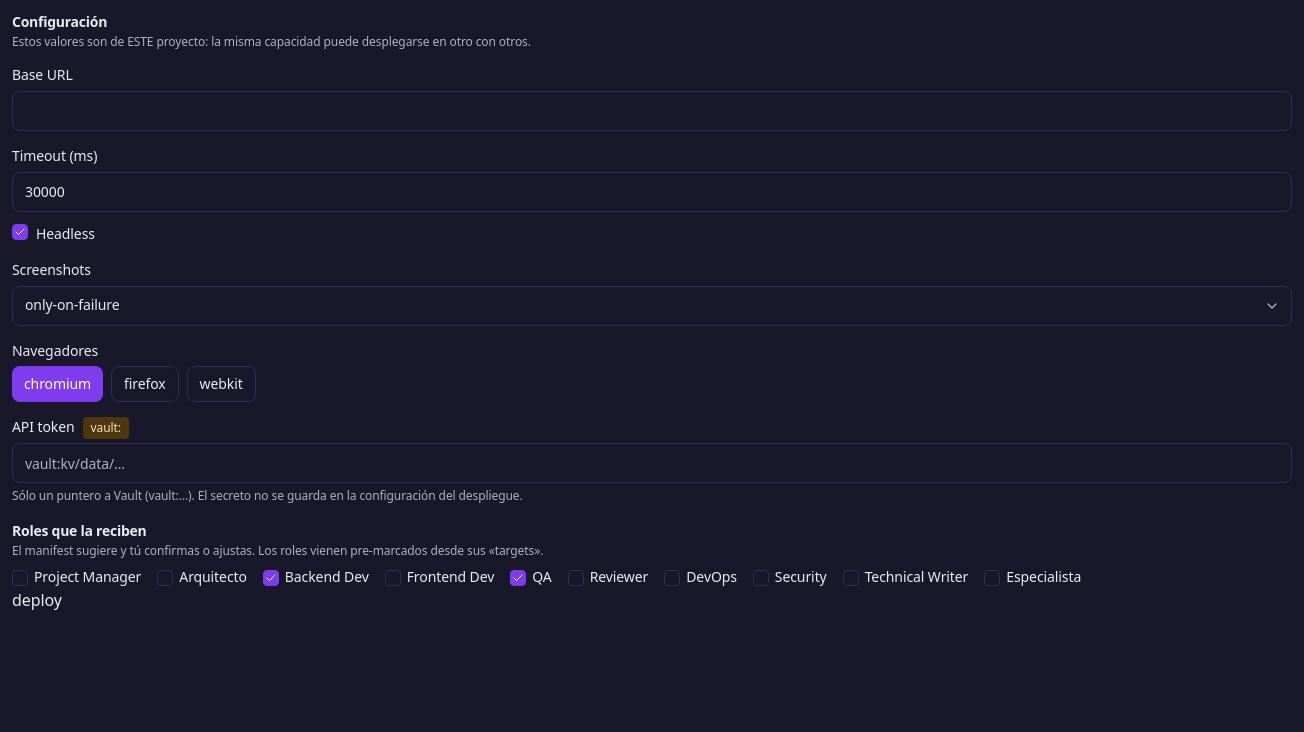
it: DeploymentConfigForm › pre-marca los roles de `targets` y deja desmarcarlos
The width and height of the screenshot is (1304, 732).
Expected: the checkbox with test id "dep-role-backend_dev" is checked, [263,567,369,588]
Expected: the checkbox with test id "dep-role-reviewer" is not checked, [568,567,648,588]
Click the checkbox with test id "dep-role-qa" at point(531, 578), box [510,567,552,588]
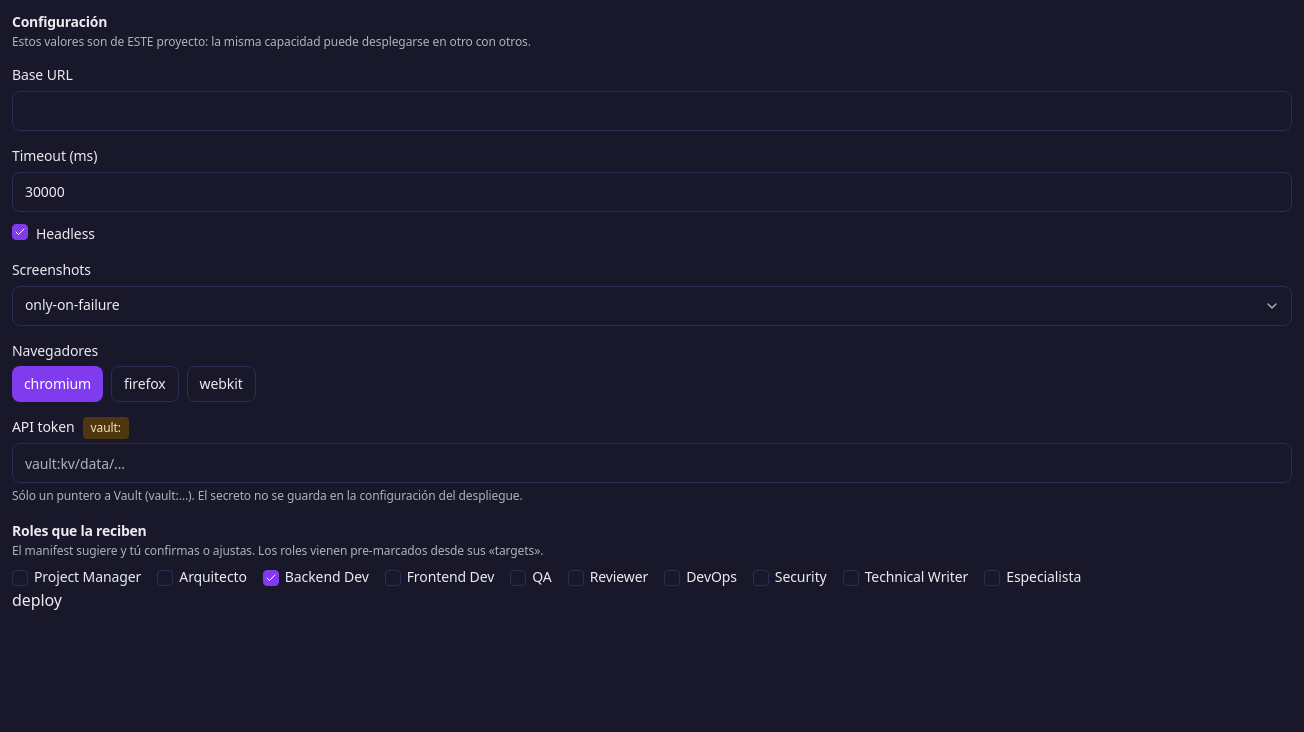
Result: the checkbox with test id "dep-role-qa" is not checked at [510,567,552,588]
# Quedarse sin roles no es un error de validación, pero sí un aviso visible.
Click the checkbox with test id "dep-role-backend_dev" at point(316, 578), box [263,567,369,588]
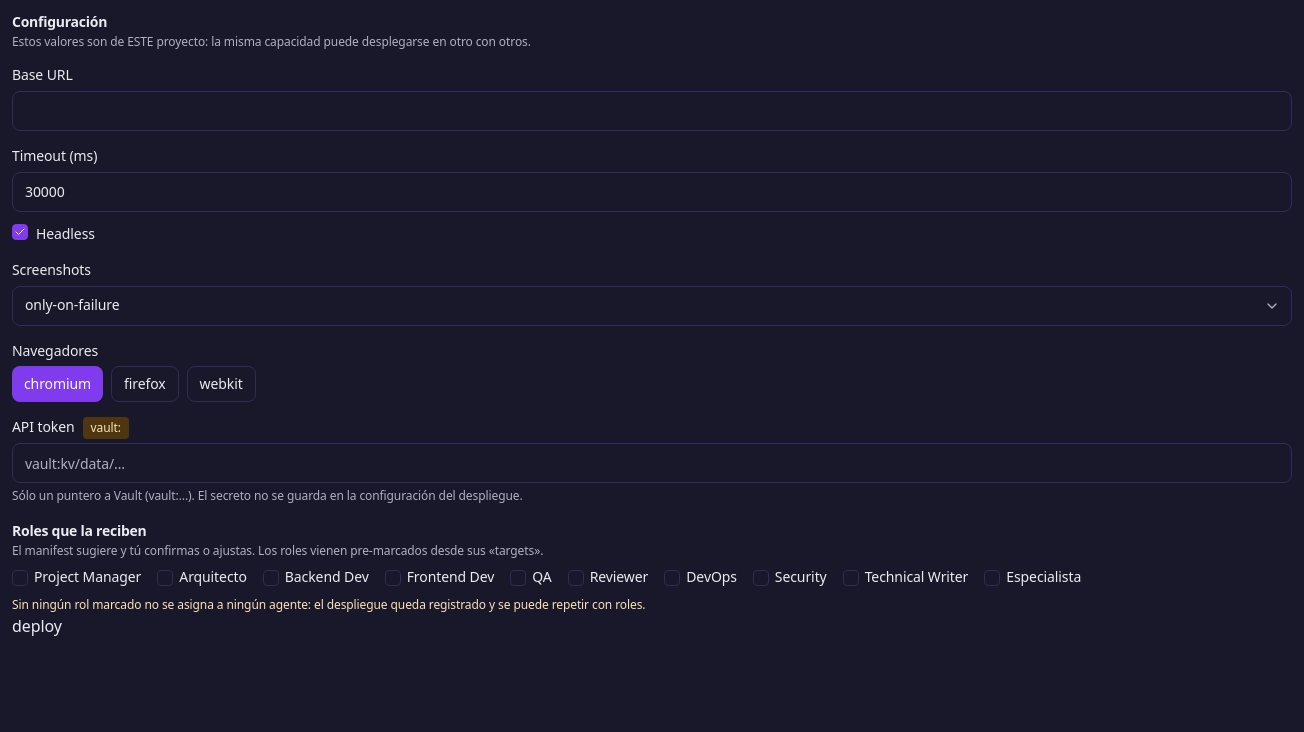
Result: the text with test id "dep-roles-empty-warning" is shown at [12,596,645,613]
